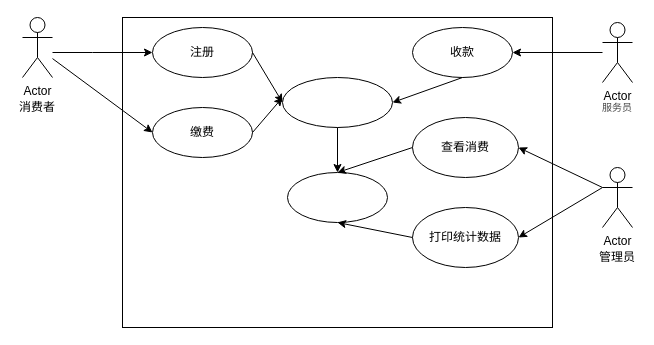
This 654x345 diagram has some shape labels left out. The box of each missing label's shape, as (x1, y1, x2, y2) in pixels:
交易记录: (286, 172, 388, 222)
卡信息: (282, 76, 392, 128)
